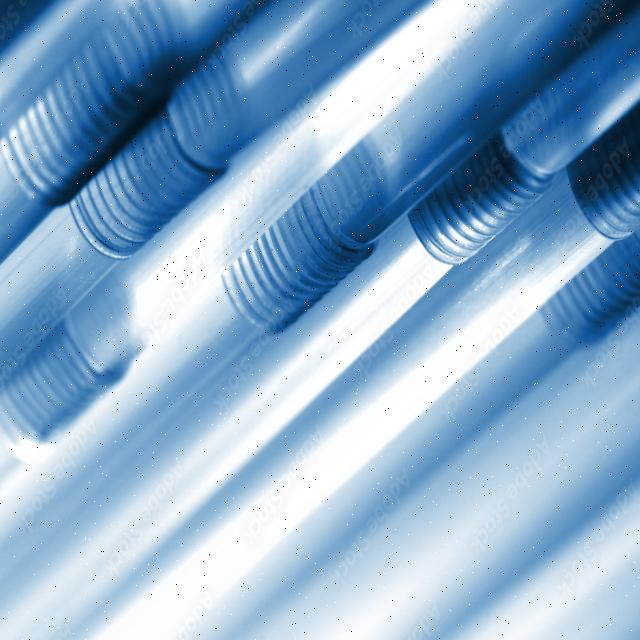plastic: (0, 0, 283, 294)
